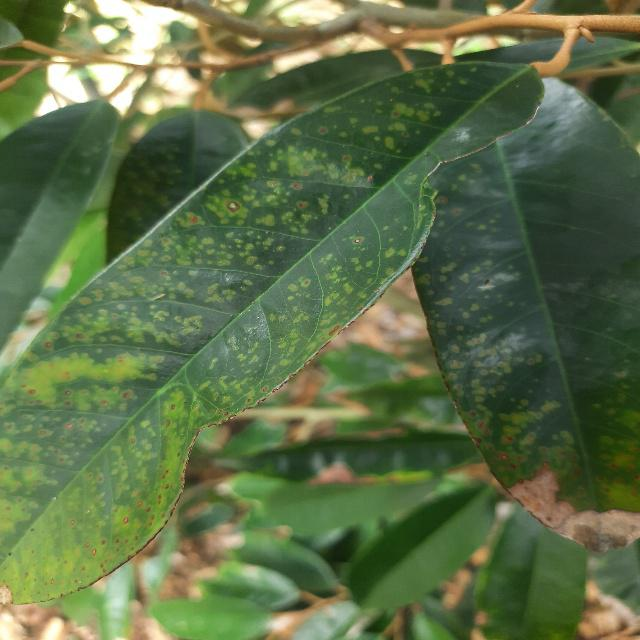Leaf Spot: (0, 57, 548, 639), (407, 69, 639, 556)
